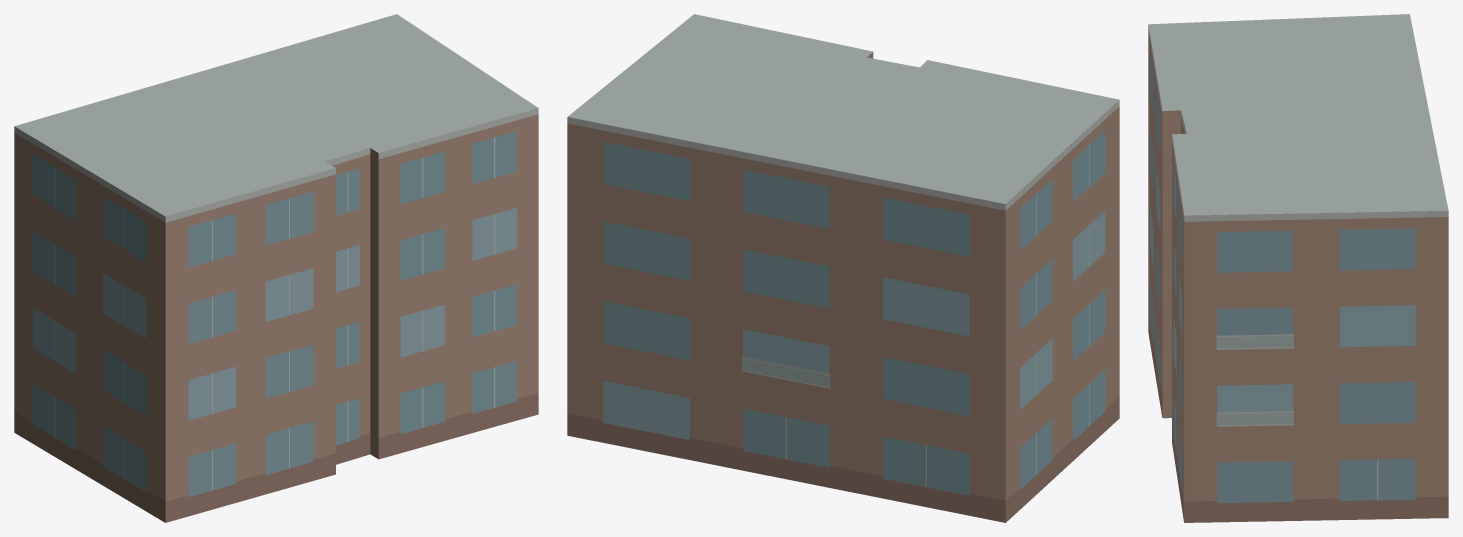
File: survey-upis-32723359.glb
3 views of the same model, side by side, from view 1: azimuth 30°, elevation 25°; view 2: azimuth 150°, elevation 25°; view 3: azimuth 270°, elevation 25° (orthographic). The views are drawn at different scales.
Visible parts, largest first — view 1: survey-upis-32723359.tmp; view 2: survey-upis-32723359.tmp; view 3: survey-upis-32723359.tmp.
Boxes of the visible parts, x1,y1,x2,y2 form: survey-upis-32723359.tmp: (14, 14, 538, 522); survey-upis-32723359.tmp: (567, 14, 1119, 522); survey-upis-32723359.tmp: (1148, 14, 1448, 522).
Size of the model in its own units: 16.89 by 12 by 10.64.
